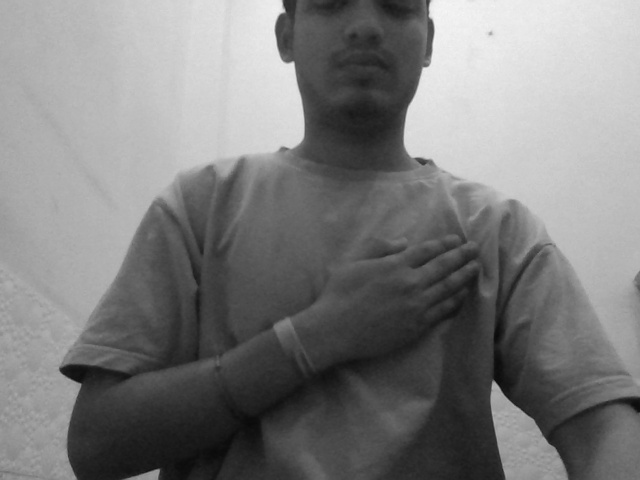Sorry: (282, 210, 527, 437)
